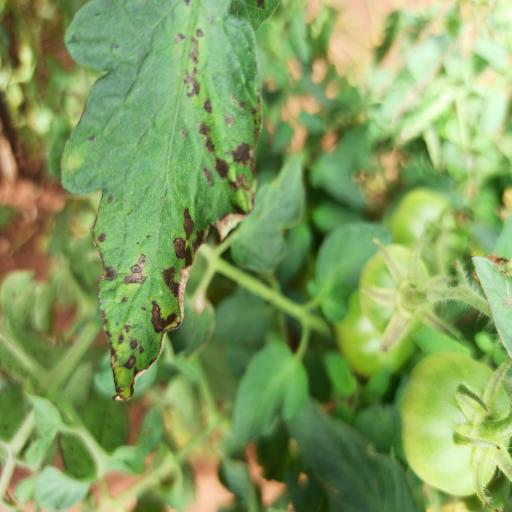Early Blight: (59, 0, 263, 406)
